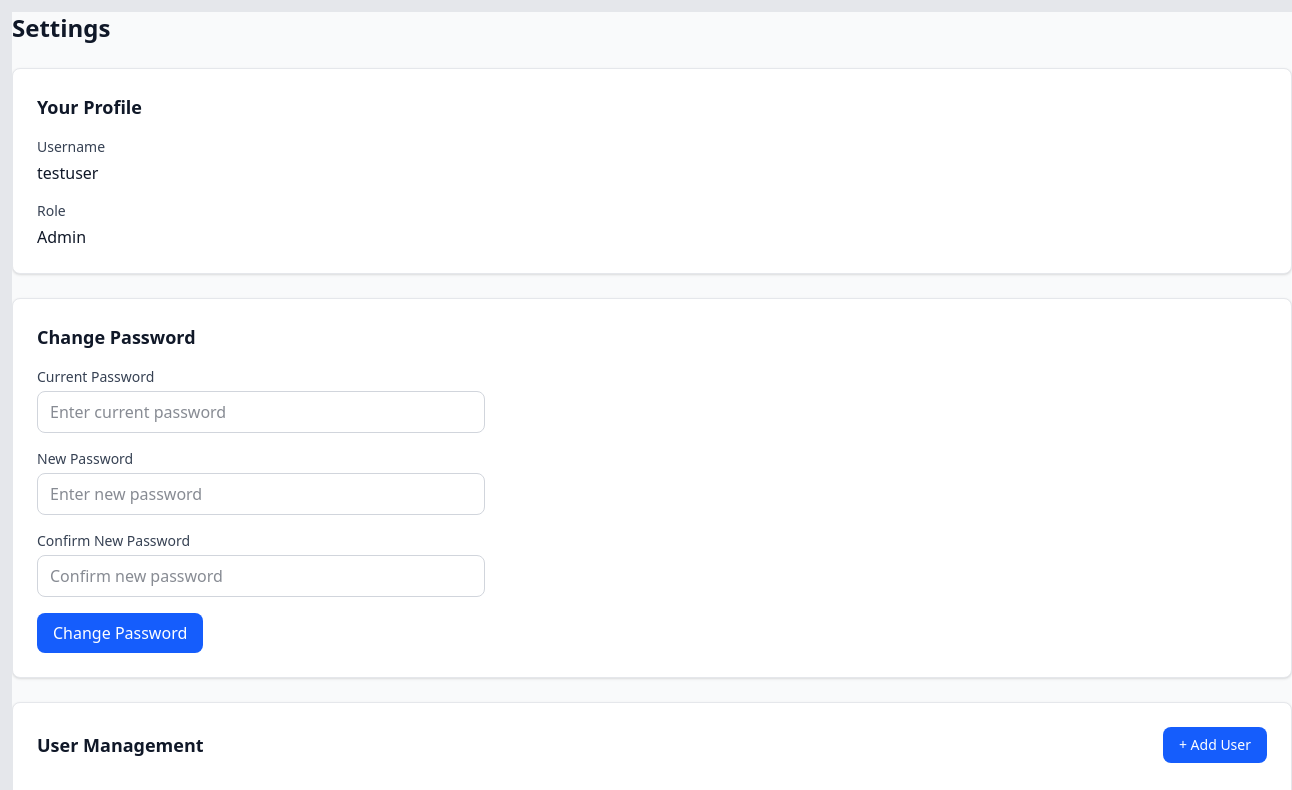
Test: SettingsPage › Change Password › shows error when new password is too short
Type "oldpass" into the password field with placeholder "Enter current password" at coordinates (261, 412), box 37,391 -> 485,433
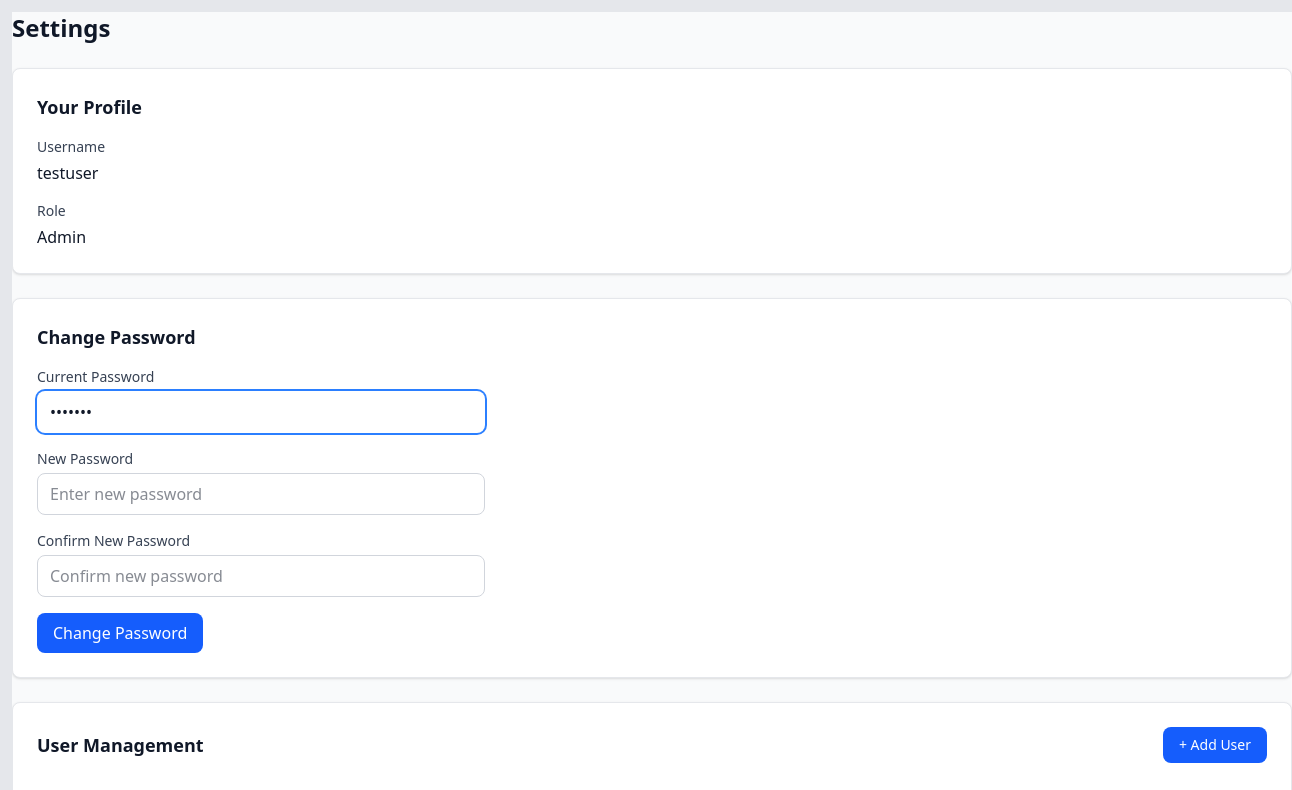
Type "abc" into the password field with placeholder "Enter new password" at coordinates (261, 494), box 37,473 -> 485,515
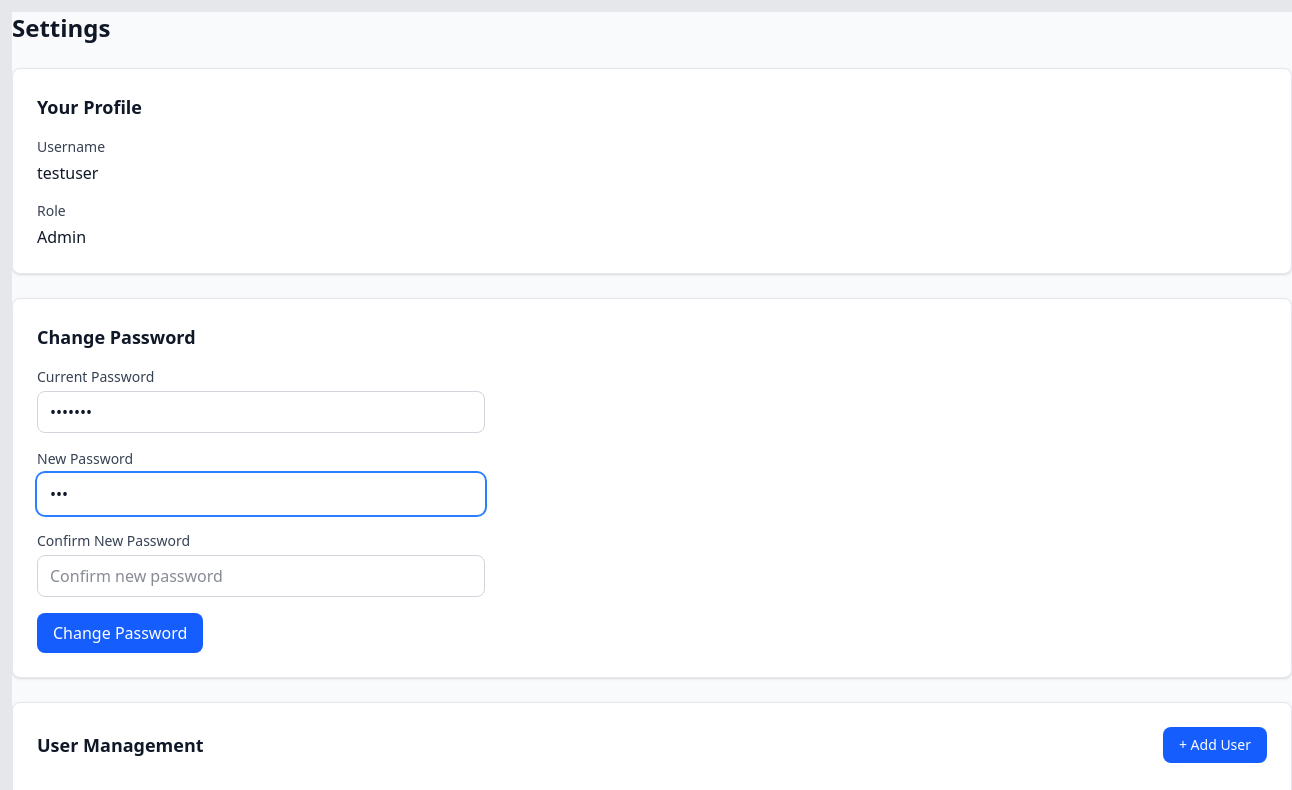
Type "abc" into the password field with placeholder "Confirm new password" at coordinates (261, 576), box 37,555 -> 485,597
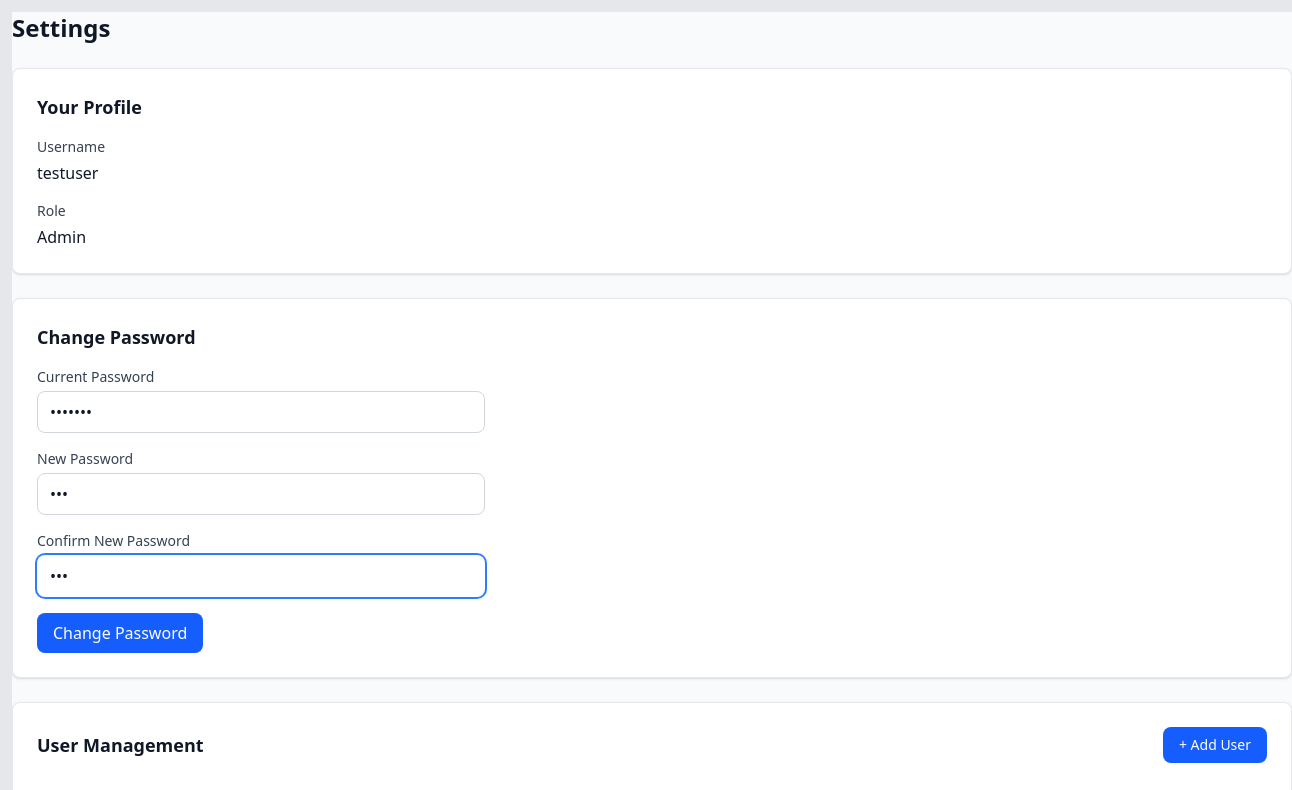
Click the button "Change Password" at coordinates (120, 633), box 37,613 -> 203,653
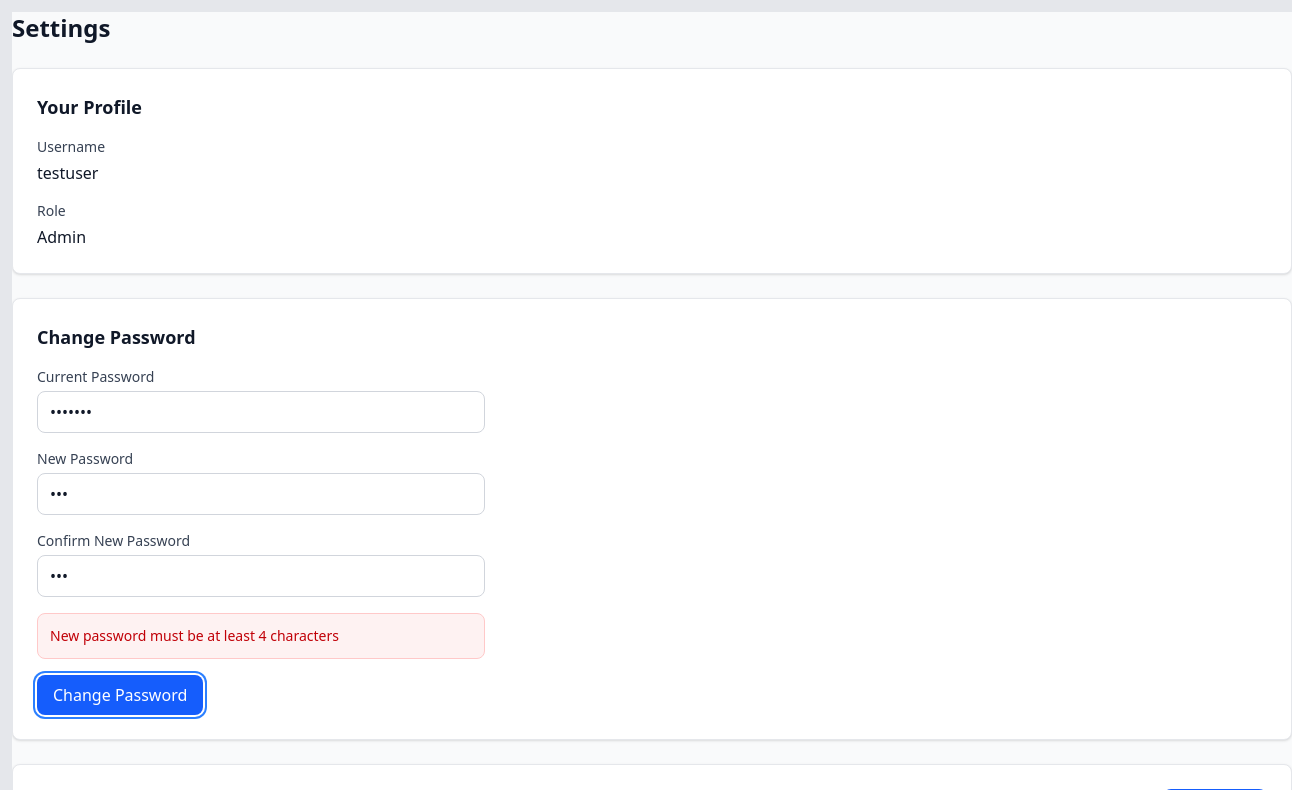
Result: the text "New password must be at least 4 characters" is shown at 37,613 -> 485,659
